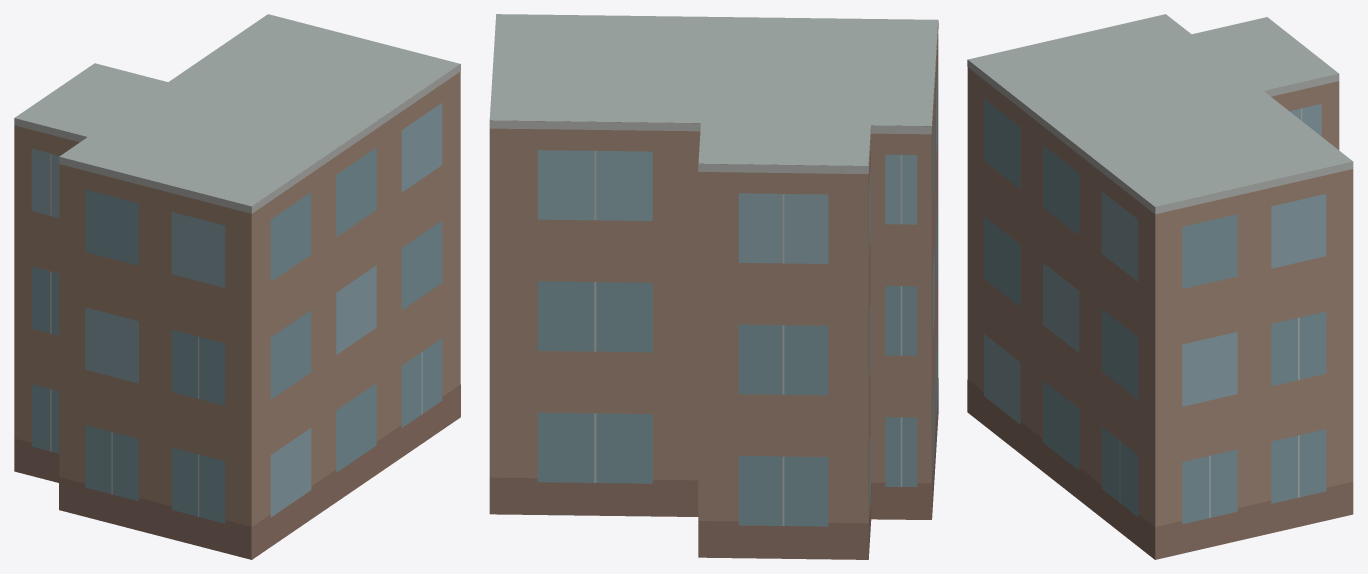
Rendered from survey-upis-32675279.glb.
3 renders of one model, left to right at view 1: azimuth 30°, elevation 25°; view 2: azimuth 150°, elevation 25°; view 3: azimuth 270°, elevation 25°, orthographic. The views are drawn at different scales.
Visible parts, largest first — view 1: survey-upis-32675279.tmp; view 2: survey-upis-32675279.tmp; view 3: survey-upis-32675279.tmp.
Part boxes in pixels (x1,y1,x2,y2): survey-upis-32675279.tmp: [14, 14, 460, 559]; survey-upis-32675279.tmp: [489, 14, 938, 559]; survey-upis-32675279.tmp: [967, 14, 1353, 559].
Bounding box in the file's own units: 13.8 × 11.75 × 11.65.
